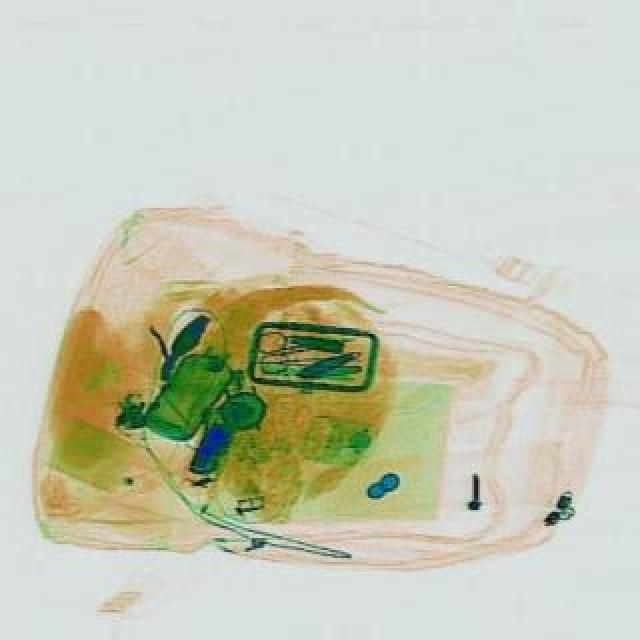pliers: (258, 324, 338, 378)
